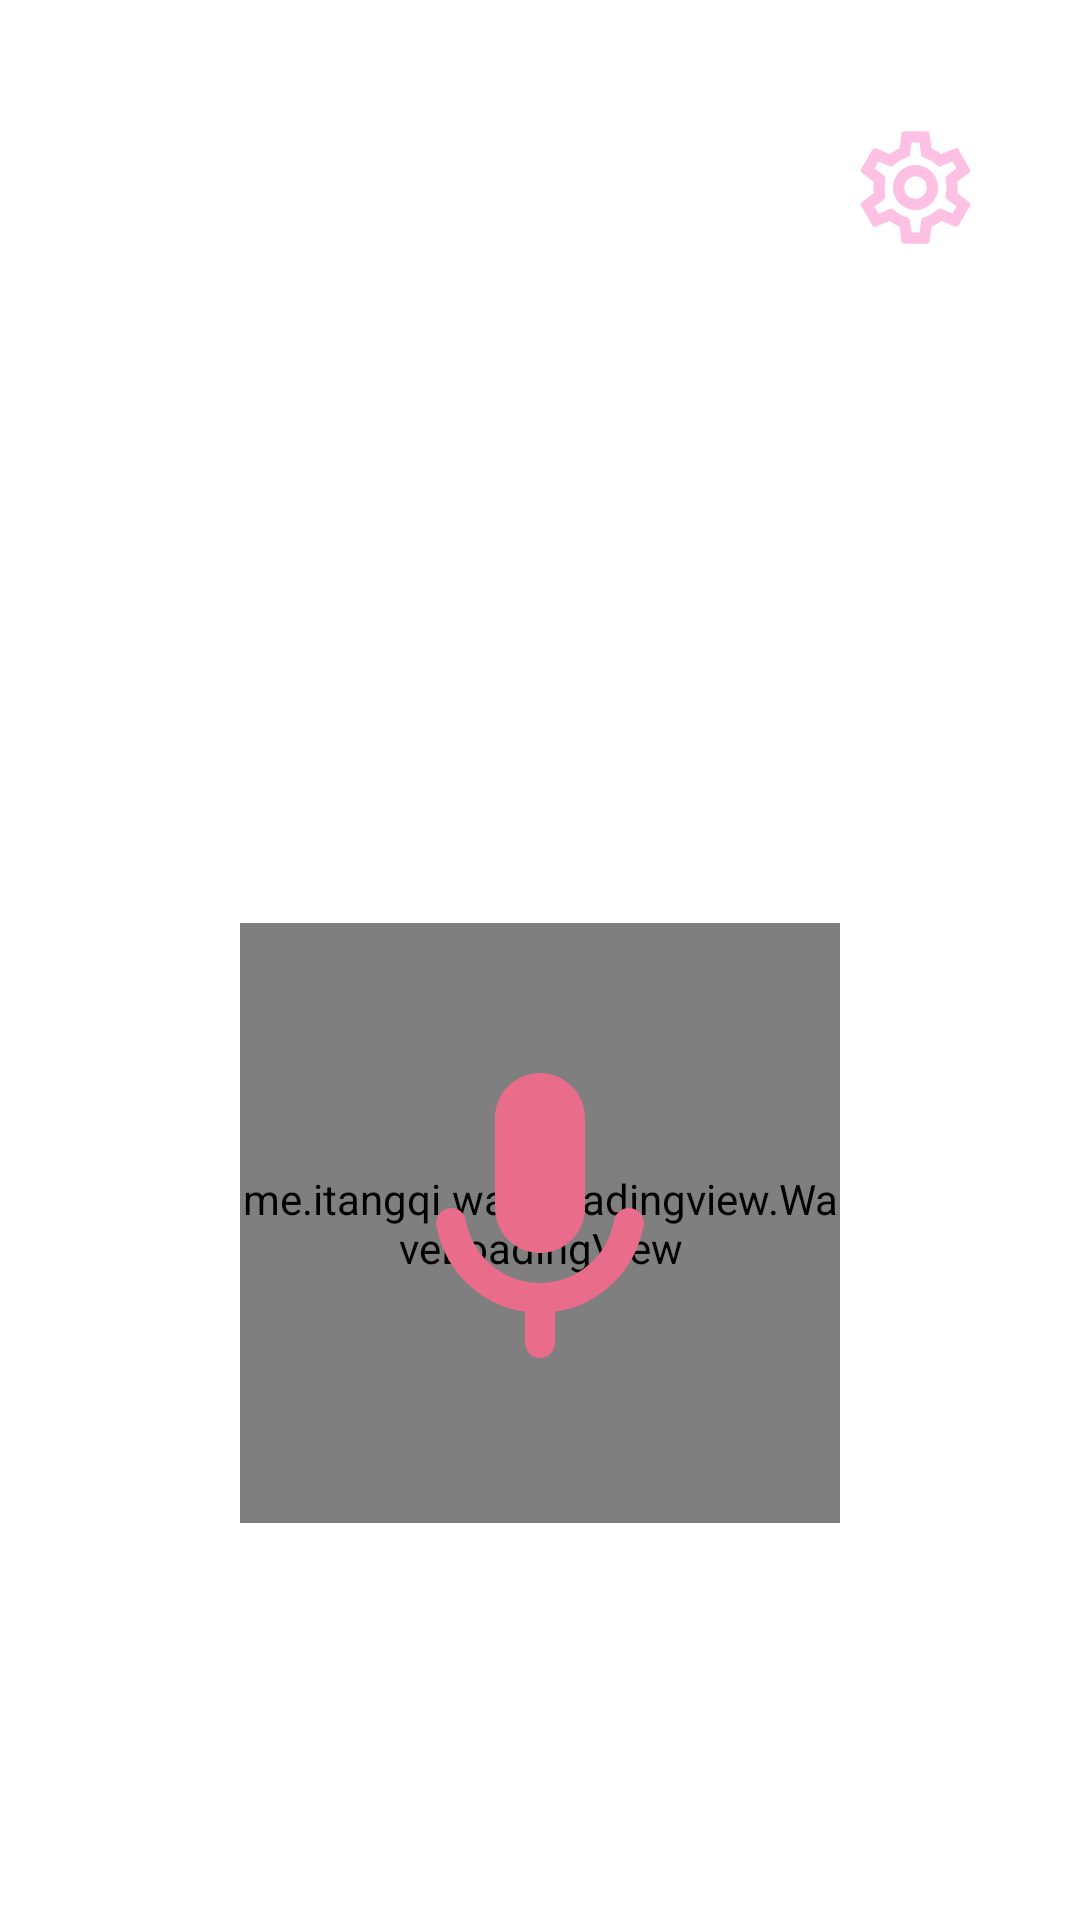

Locate icon controls on the screen. Image size 1080px x 1920px, boxes as (x1, y1, x2, y2).
settings: (861, 131, 970, 244)
